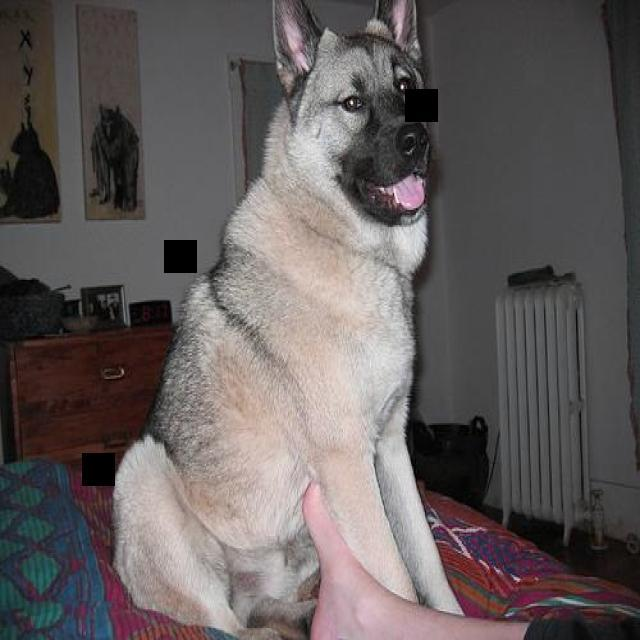adult_dog: (107, 1, 466, 638)
